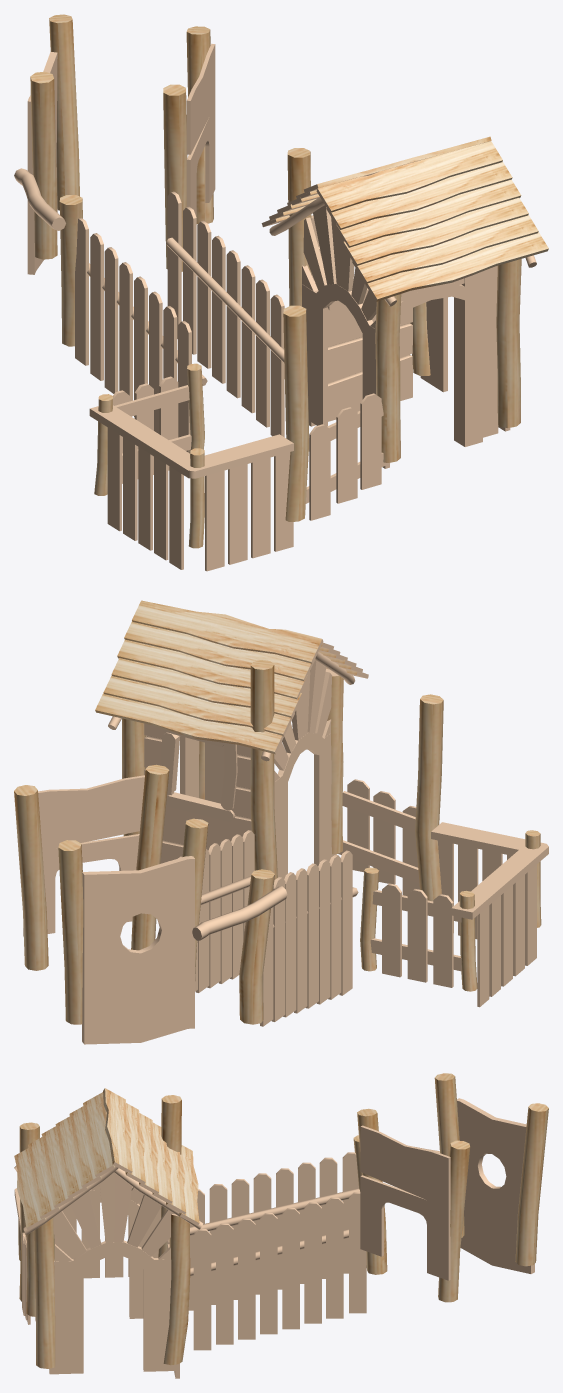
The model's file is PlaygroundSet_Top.fbx.
3 views of the same model, one above another, from view 1: azimuth 30°, elevation 25°; view 2: azimuth 150°, elevation 25°; view 3: azimuth 270°, elevation 25° (orthographic). The views are drawn at different scales.
Visible parts, largest first — view 1: PlaygroundSet_Top; view 2: PlaygroundSet_Top; view 3: PlaygroundSet_Top.
Boxes of the visible parts, x1,y1,x2,y2 form: PlaygroundSet_Top: [14, 14, 548, 571]; PlaygroundSet_Top: [14, 600, 548, 1044]; PlaygroundSet_Top: [14, 1073, 548, 1378].
Bounding box in the file's own units: 298 × 239 × 436.
